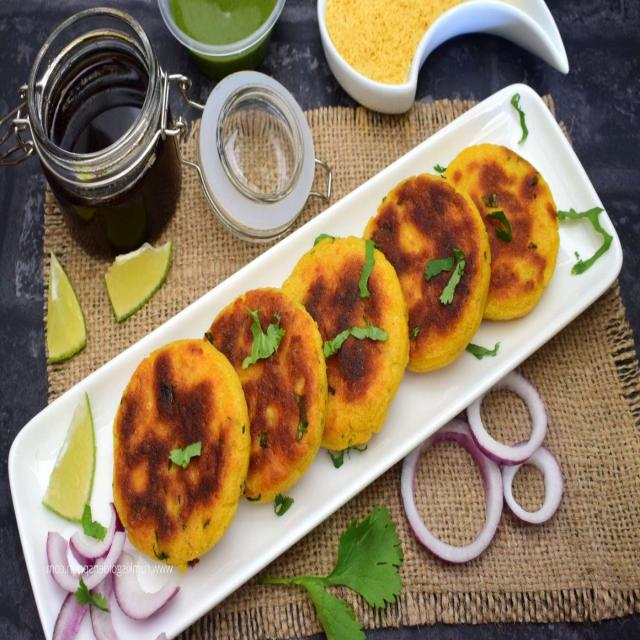Aloo Tikki: (113, 338, 250, 566), (364, 171, 491, 374), (286, 241, 407, 452), (207, 288, 324, 504), (438, 142, 559, 322)
